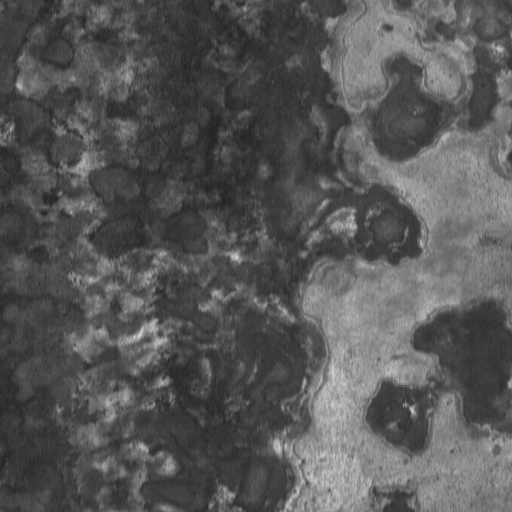aokeng: (366, 295, 512, 458), (359, 45, 458, 171), (362, 200, 417, 255)
